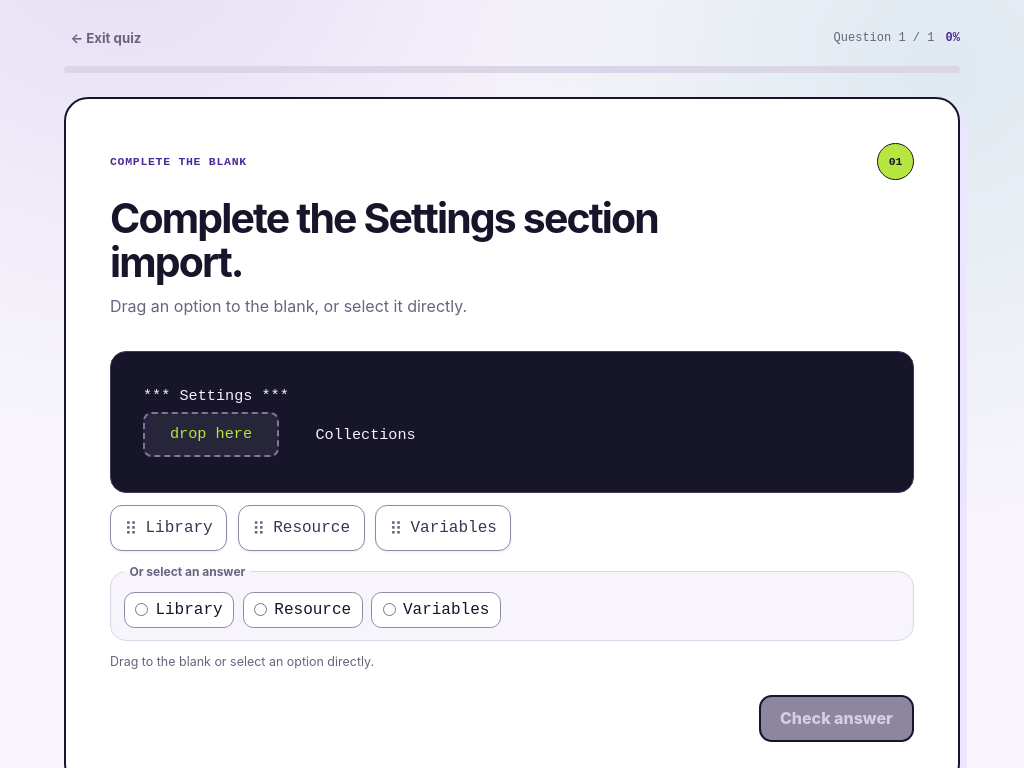
it: QuizRunner › accepts direct selection for a drag-to-blank question and can clear it again
Click the radio button labelled "Library".
click(142, 610)  # box x1=135 y1=603 x2=148 y2=616
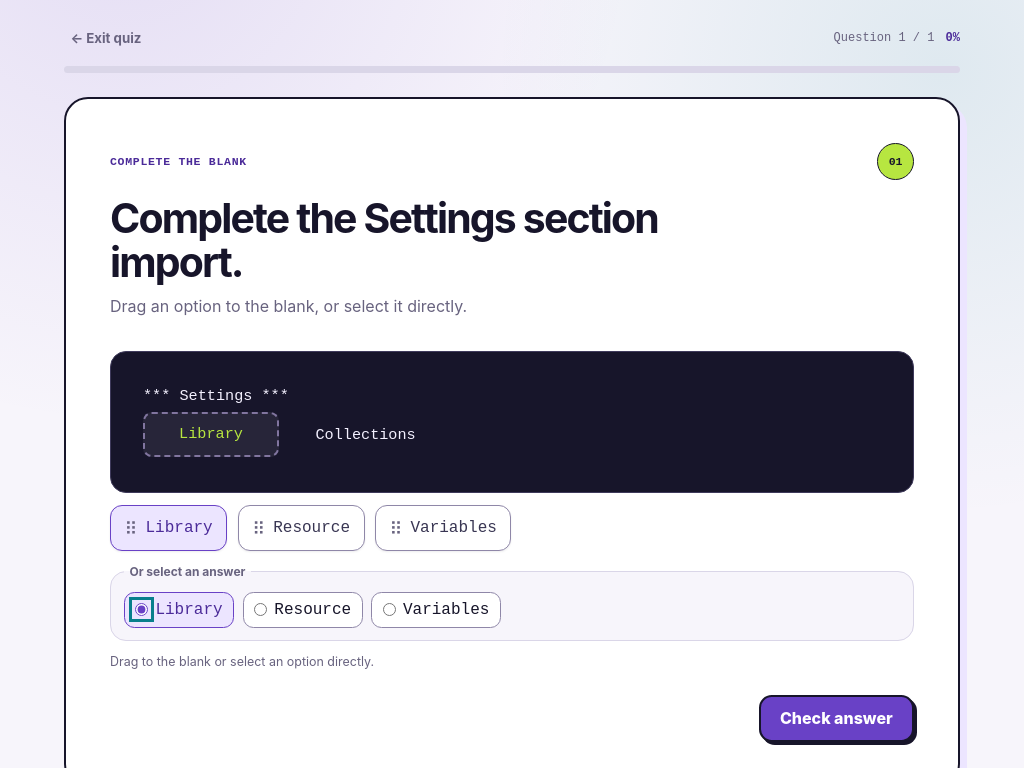
Check: the button "Check answer" is enabled, box x1=759 y1=695 x2=914 y2=742
Click the button with aria-label "Blank contains Library".
click(211, 435)  # box x1=143 y1=412 x2=279 y2=457
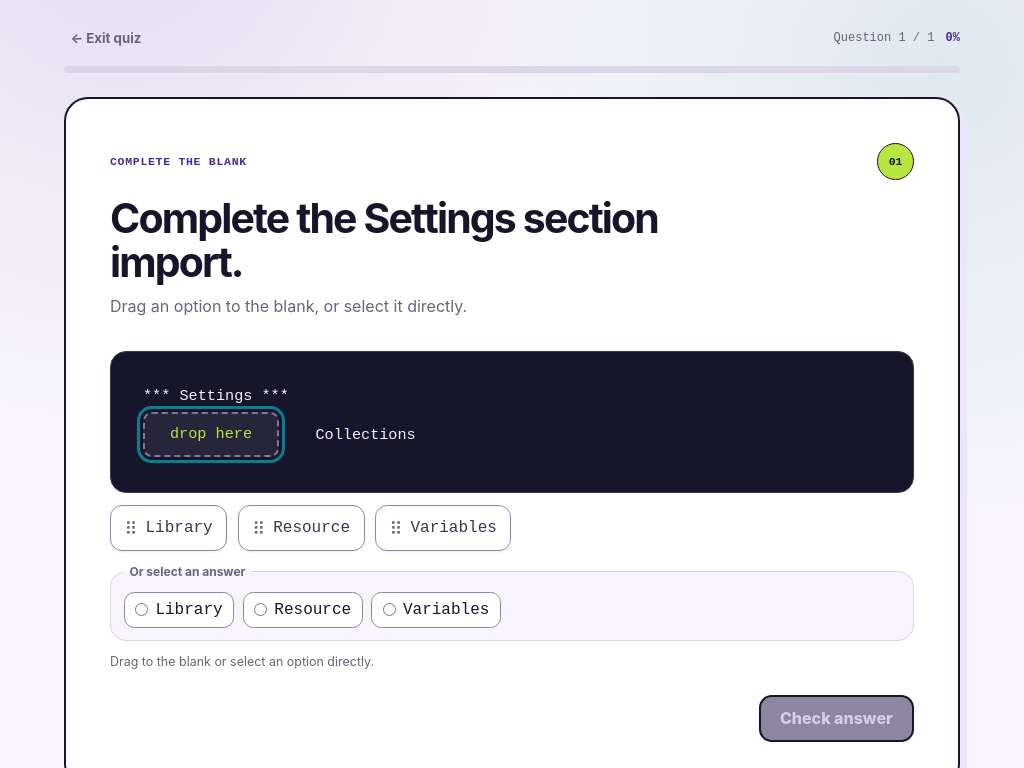
Check: the button with aria-label "Empty answer blank" is shown, box x1=143 y1=412 x2=279 y2=457
Check: the button "Check answer" is disabled, box x1=759 y1=695 x2=914 y2=742
